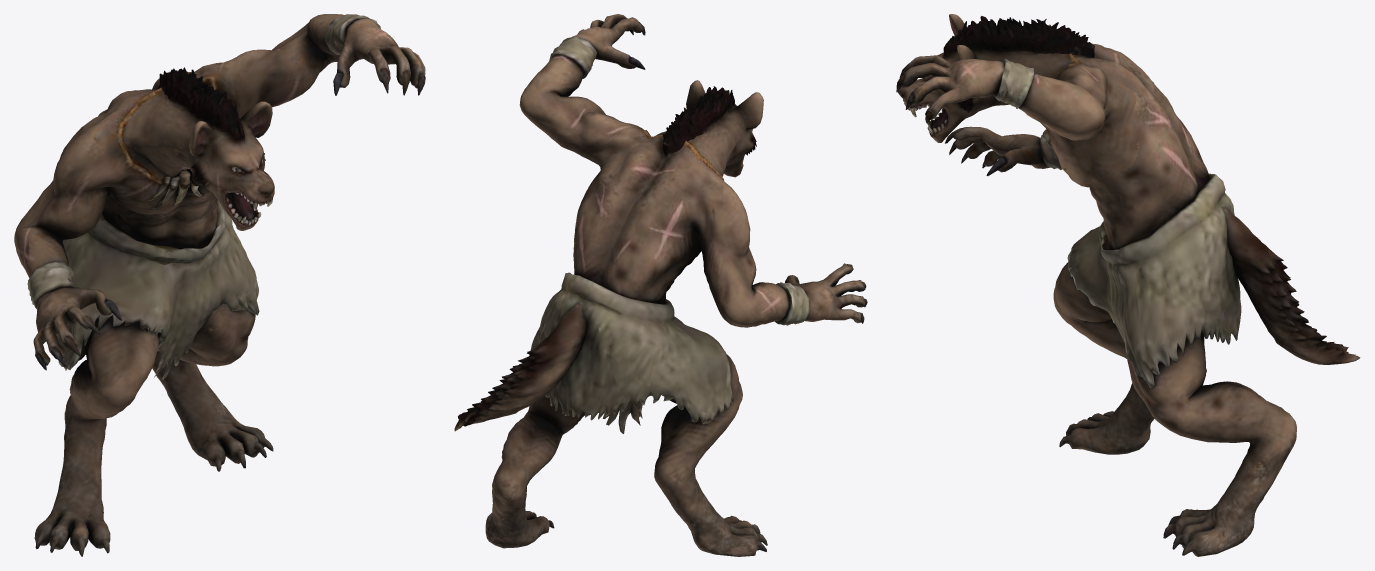
File: MZ4250 - Gnoll Warrior 2025_rending_hyena.glb
3 views of the same model, side by side, from view 1: azimuth 30°, elevation 25°; view 2: azimuth 150°, elevation 25°; view 3: azimuth 270°, elevation 25° (orthographic). The views are drawn at different scales.
Parts seen in each view (by area): view 1: Body.001; view 2: Body.001; view 3: Body.001.
Part boxes in pixels (x1,y1,x2,y2): Body.001: [14, 14, 425, 556]; Body.001: [454, 14, 867, 556]; Body.001: [896, 14, 1360, 556].
Size of the model in its own units: 63.4 by 85.21 by 72.63.
2 materials, 2 textured.
